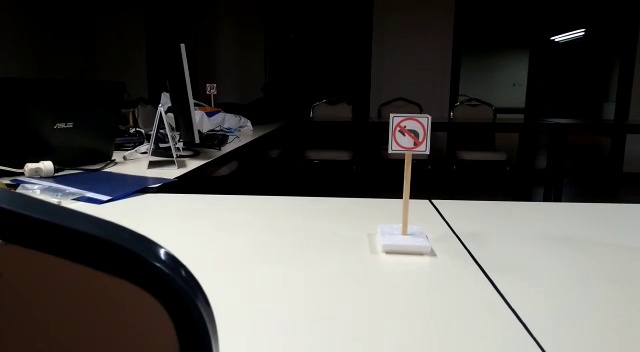sola_donulmez: (390, 116, 428, 153)
